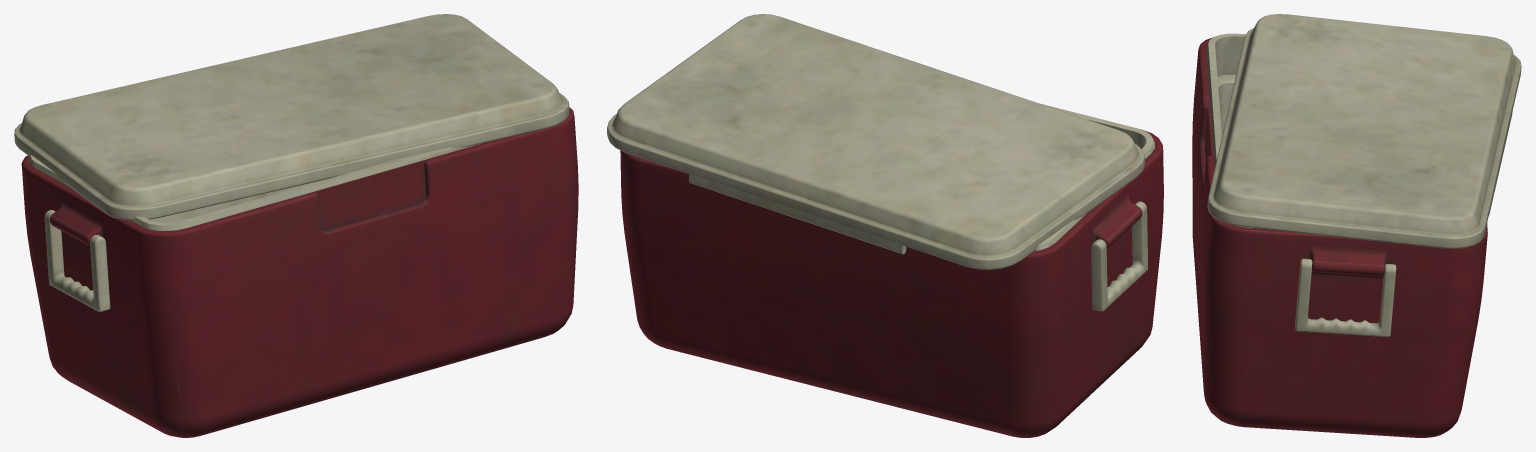
File: ItemSpot.fbx
3 views of the same model, side by side, from view 1: azimuth 30°, elevation 25°; view 2: azimuth 150°, elevation 25°; view 3: azimuth 270°, elevation 25° (orthographic). The views are drawn at different scales.
Parts seen in each view (by area): view 1: ItemBox_IceBox; view 2: ItemBox_IceBox; view 3: ItemBox_IceBox.
Boxes of the visible parts, x1,y1,x2,y2 form: ItemBox_IceBox: (14, 14, 578, 437); ItemBox_IceBox: (607, 14, 1163, 437); ItemBox_IceBox: (1192, 14, 1521, 437).
Size of the model in its own units: 1.07 by 0.5789 by 0.6664.
1 material, 1 textured.
